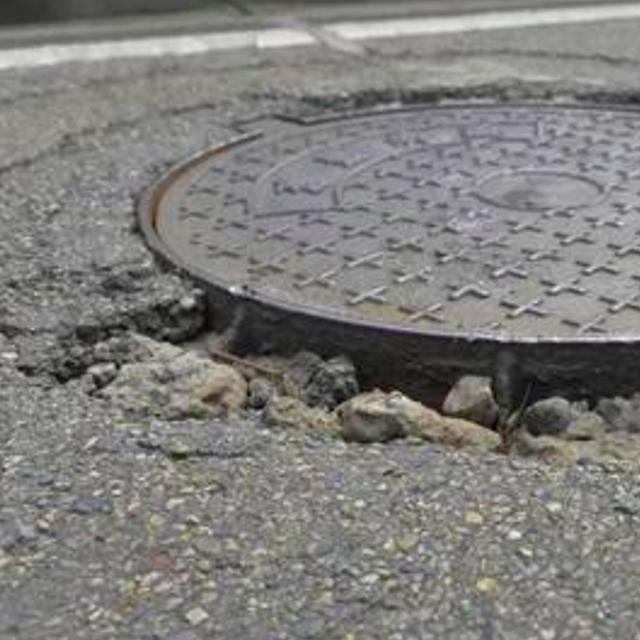circle: (0, 65, 640, 494)
